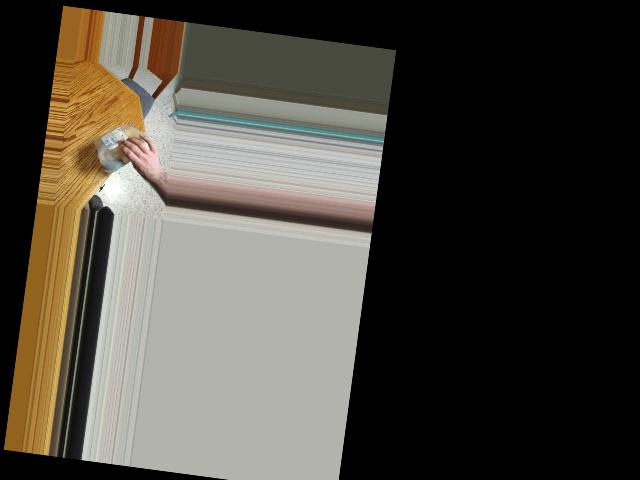cheese: (88, 118, 157, 177)
